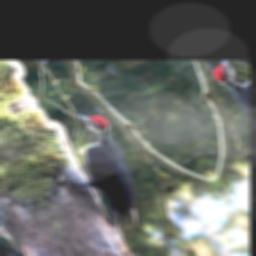Woodpecker: (29, 105, 173, 247)
